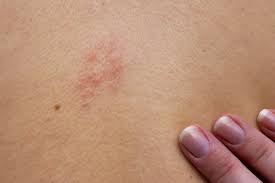herpes: (74, 43, 132, 104)
